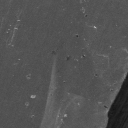corrosion: (30, 94, 36, 100), (24, 101, 30, 107), (74, 33, 80, 39), (63, 113, 67, 118), (93, 25, 97, 30)
